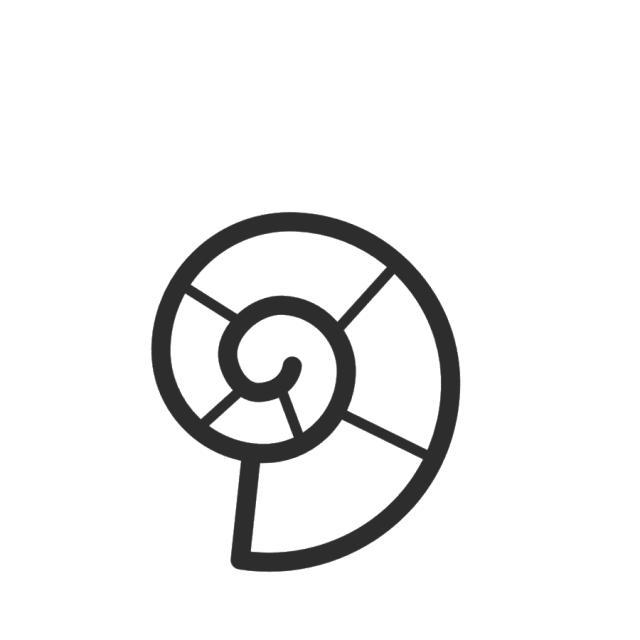fossil: (146, 207, 469, 581)
